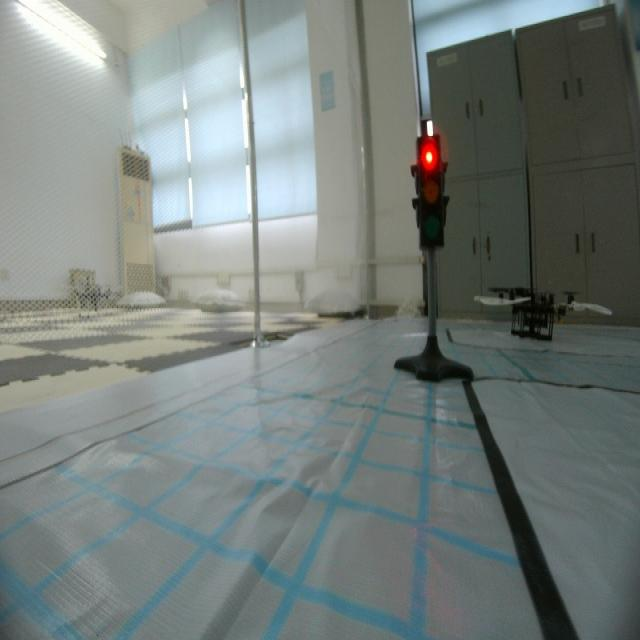red: (413, 131, 449, 254)
